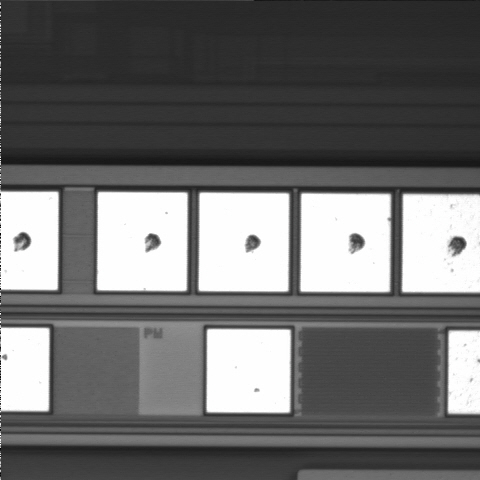pad: (97, 192, 187, 291), (199, 193, 289, 291), (301, 194, 390, 292), (207, 329, 291, 413)
